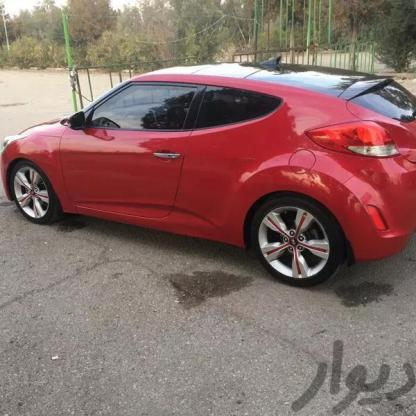Car: (0, 63, 416, 298)
